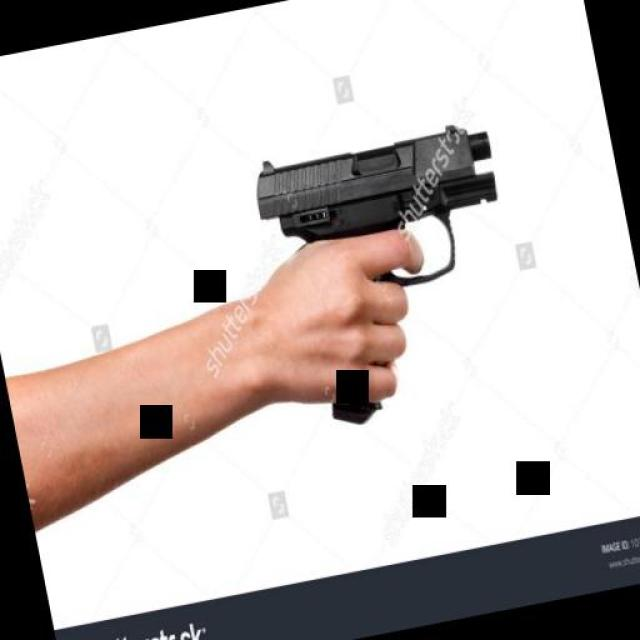gun: (246, 114, 536, 434)
